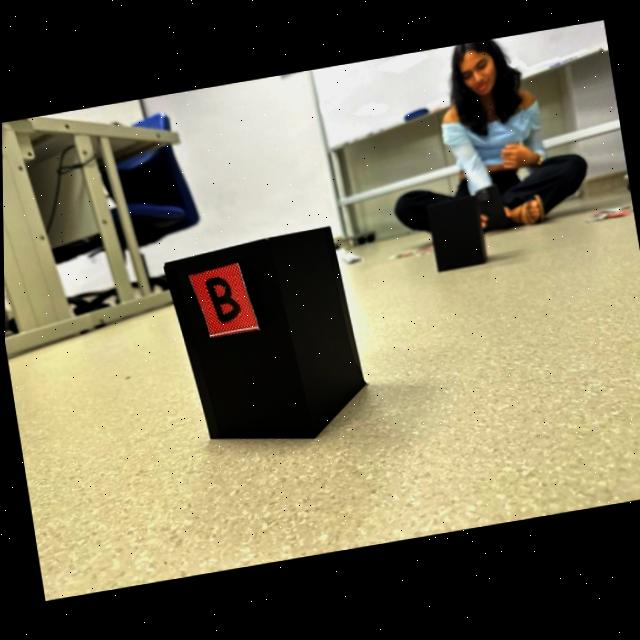B: (205, 279, 239, 324)
